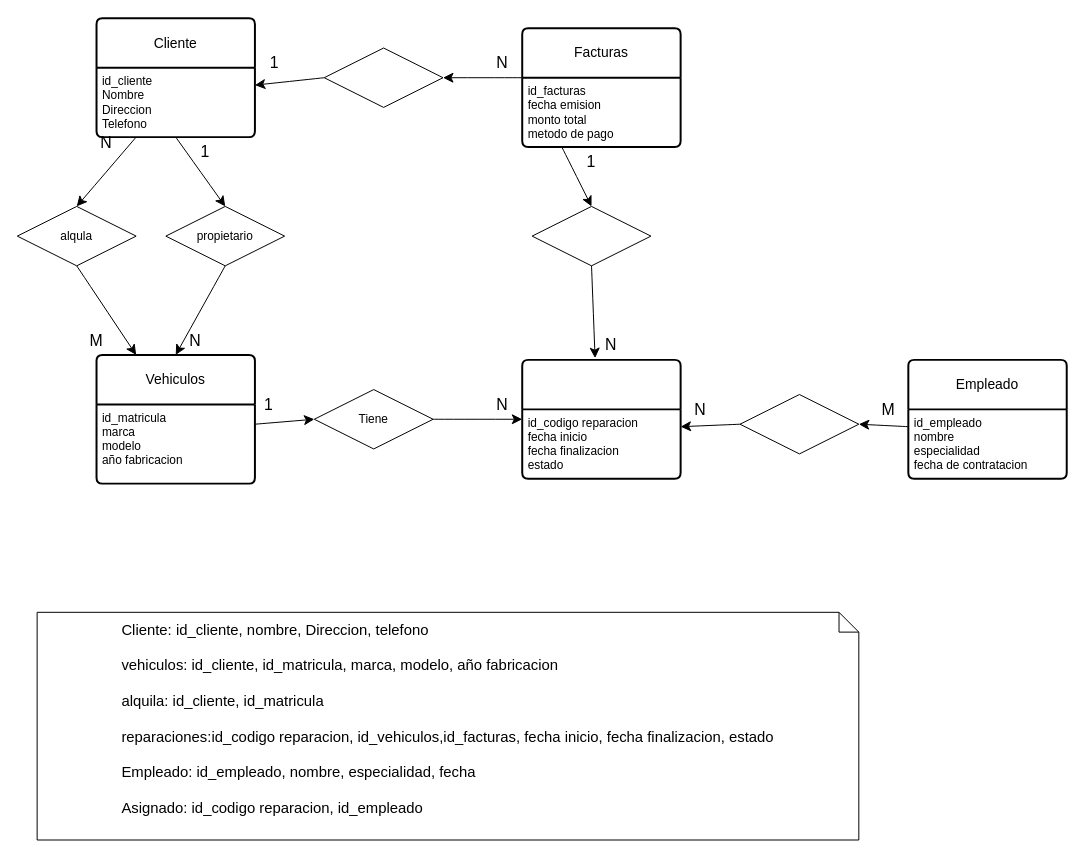
This 1085x857 diagram has some shape labels left out. The shapes that lost their labels are listed below. From the top down, each one's box as (x1, y1, x2, y2) in pixels, then its label:
(323, 47, 443, 107): emite
(531, 205, 651, 266): asociada
(521, 358, 681, 479): Reparaciones
(739, 394, 859, 454): asignado
